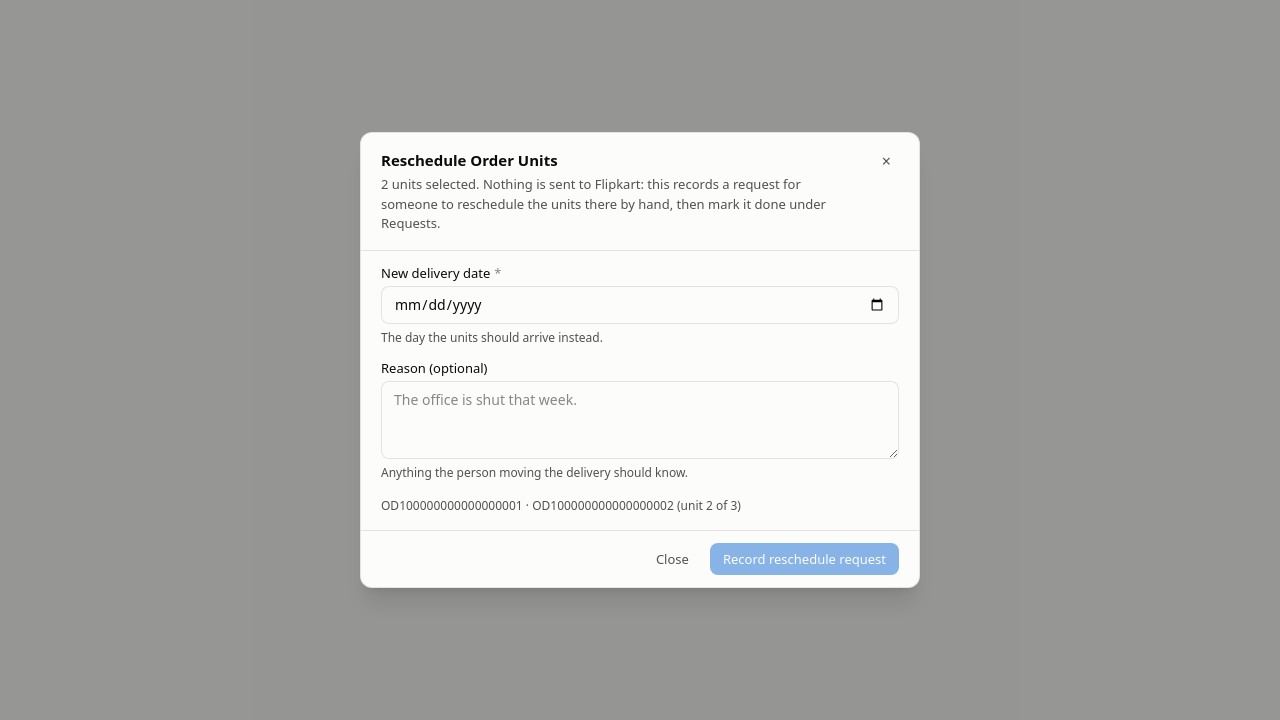
UnitRequestDialog › keeps a reschedule disabled until a date is chosen and sends it
The width and height of the screenshot is (1280, 720).
expect the button "Record reschedule request" is disabled: met, box left=710, top=543, right=899, bottom=575
Type "Office shut" into the text box labelled "Reason (optional)". click: (640, 420)
box: left=381, top=381, right=899, bottom=459
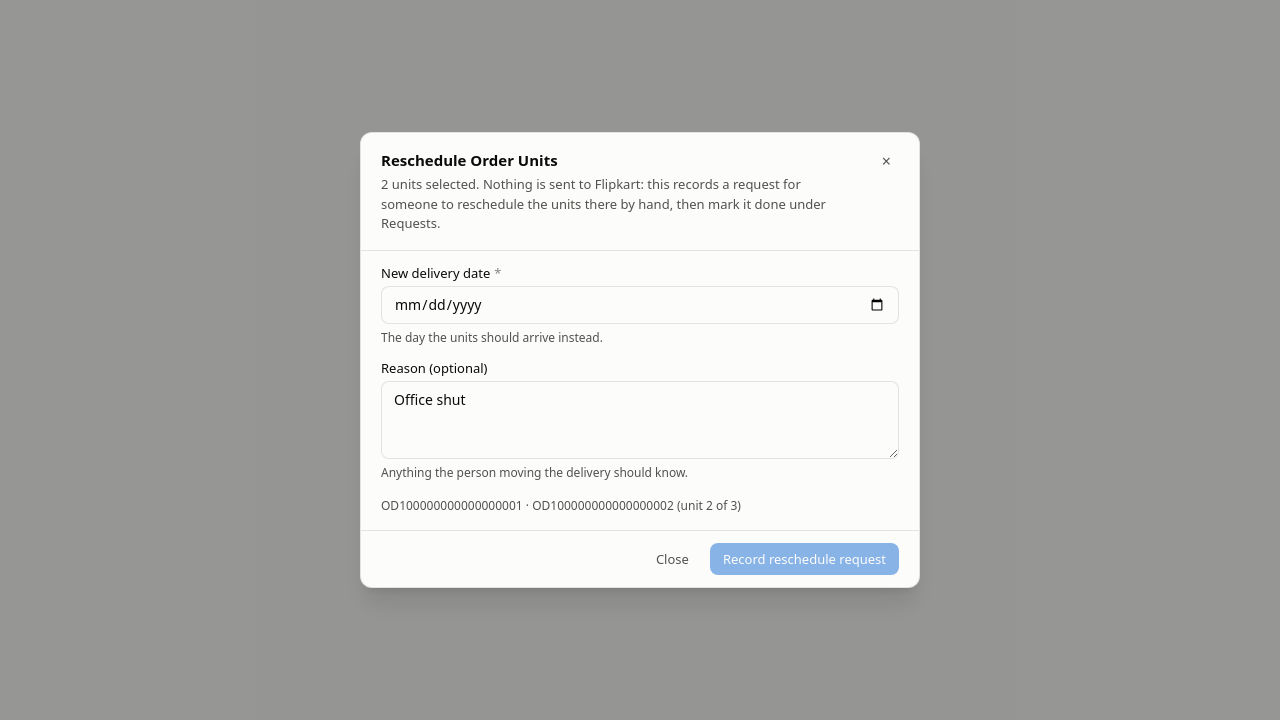
expect the button "Record reschedule request" is disabled: met, box left=710, top=543, right=899, bottom=575
Type "2099-11-02" into the date field labelled "New delivery date*". click: (640, 305)
box: left=381, top=286, right=899, bottom=324
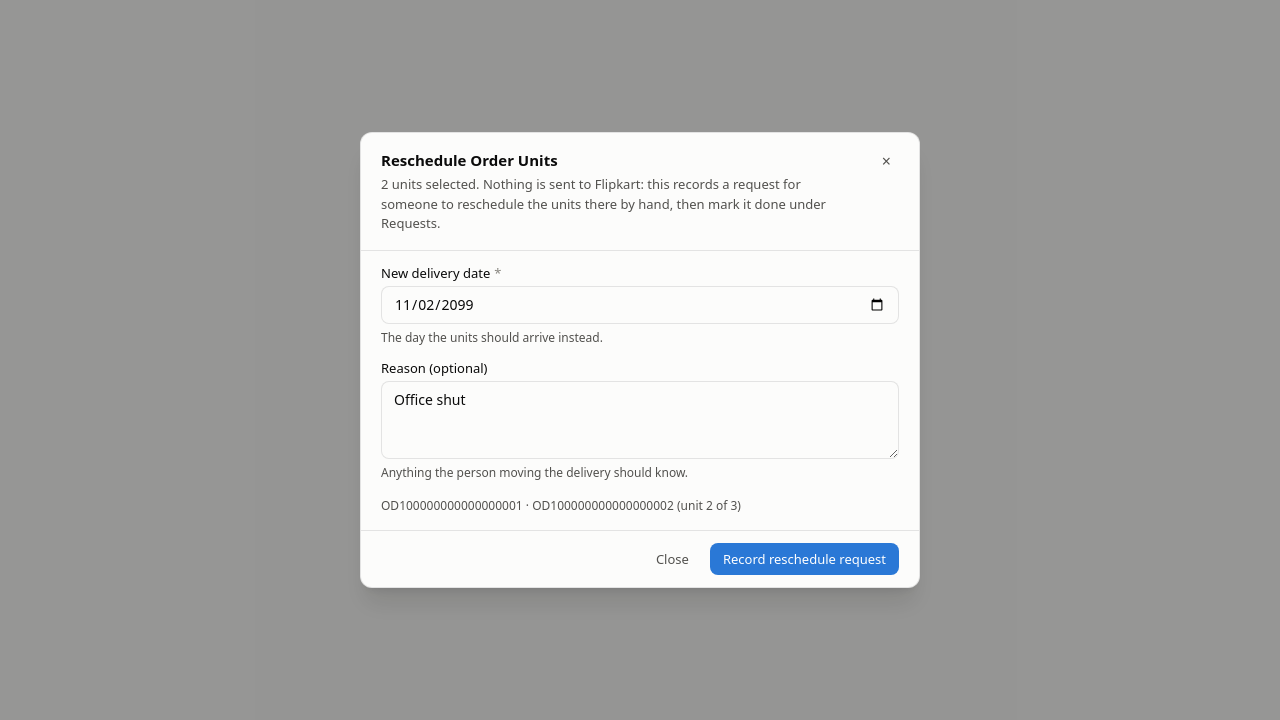
expect the button "Record reschedule request" is enabled: met
Click the button "Record reschedule request". click: (804, 559)
box: left=710, top=543, right=899, bottom=575
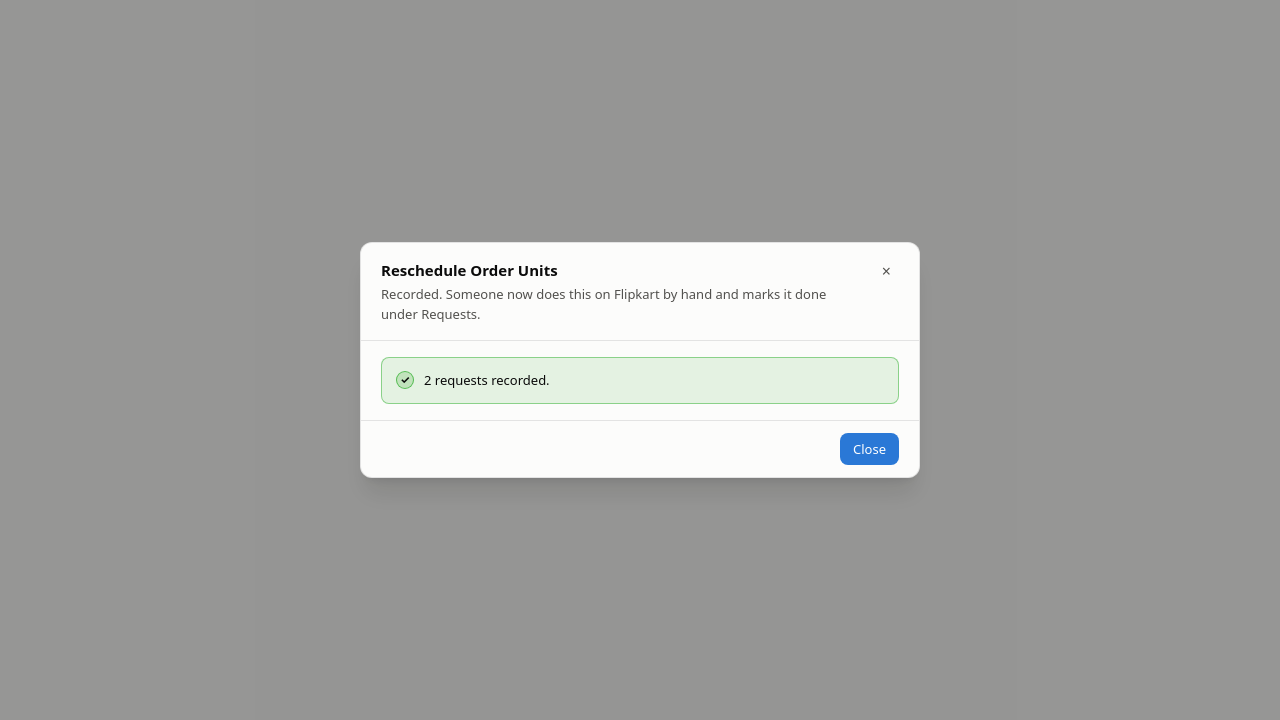
expect the text "2 requests recorded." is shown: met, box left=424, top=370, right=550, bottom=391
